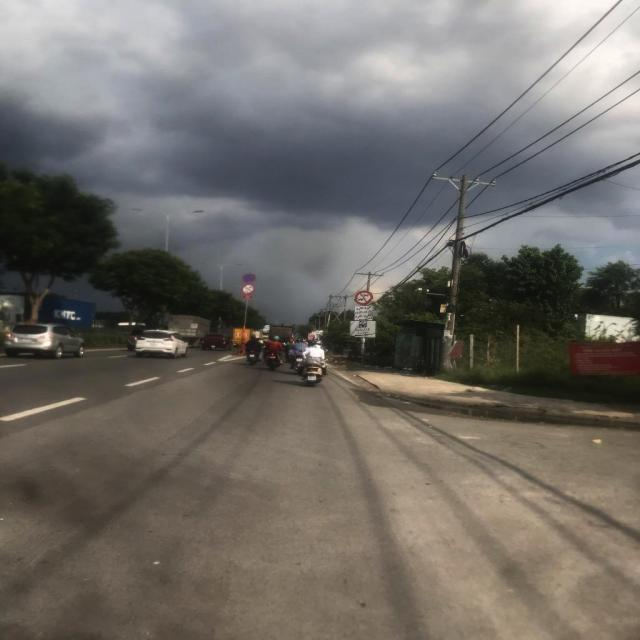107-cam-oto-khach-va-oto-tai: (354, 290, 374, 306)
